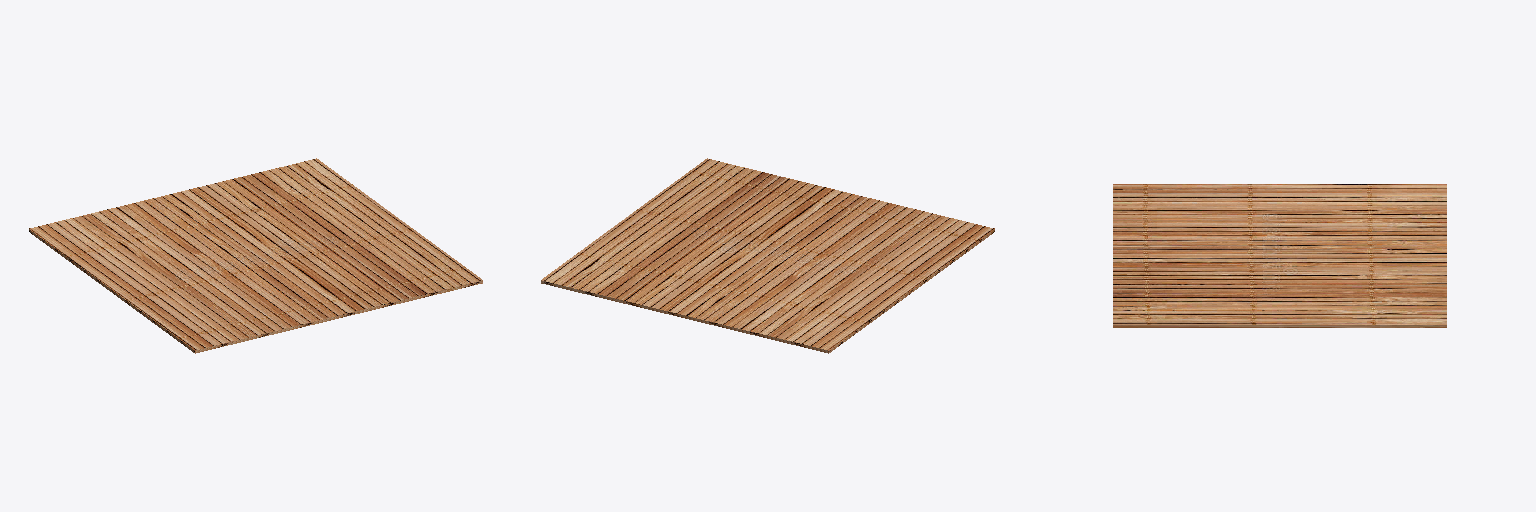
3 views of the same model, side by side, from view 1: azimuth 30°, elevation 25°; view 2: azimuth 150°, elevation 25°; view 3: azimuth 270°, elevation 25° (orthographic).
Parts seen in each view (by area): view 1: Cube; view 2: Cube; view 3: Cube.
Boxes of the visible parts, <box> form: Cube: <box>29,158,482,353</box>; Cube: <box>541,158,994,353</box>; Cube: <box>1113,184,1446,327</box>.
Size of the model in its own units: 200 by 2 by 200.
Materials: 1 (1 with a texture image).